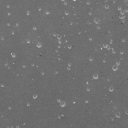corrosion: (56, 97, 67, 109), (111, 64, 120, 72), (93, 17, 101, 24), (92, 73, 99, 80), (44, 9, 50, 16), (10, 52, 17, 58), (102, 43, 109, 49), (36, 42, 42, 48), (32, 93, 38, 99), (64, 10, 70, 16), (108, 86, 114, 92), (104, 4, 110, 10), (51, 32, 58, 37), (26, 10, 31, 16), (26, 38, 31, 44), (67, 45, 72, 50), (117, 6, 122, 11), (121, 38, 126, 43), (84, 99, 89, 103), (33, 26, 37, 31), (89, 57, 93, 62), (67, 63, 72, 67), (7, 12, 11, 16)
